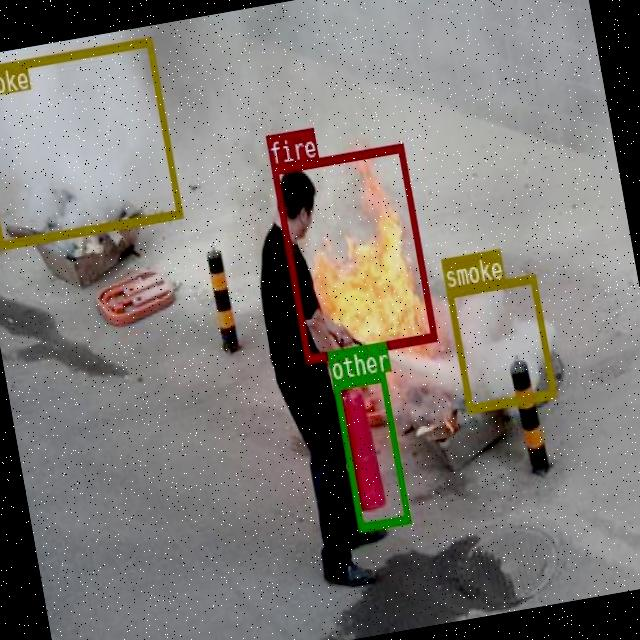fire: (270, 143, 436, 362)
smoke: (0, 36, 182, 249), (445, 273, 555, 412)
